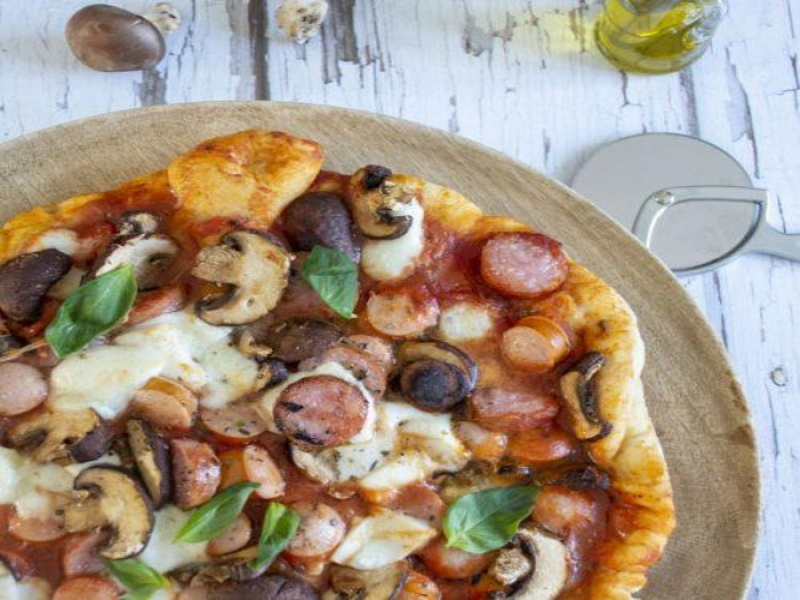champignon: (185, 225, 296, 328), (56, 461, 161, 568)
